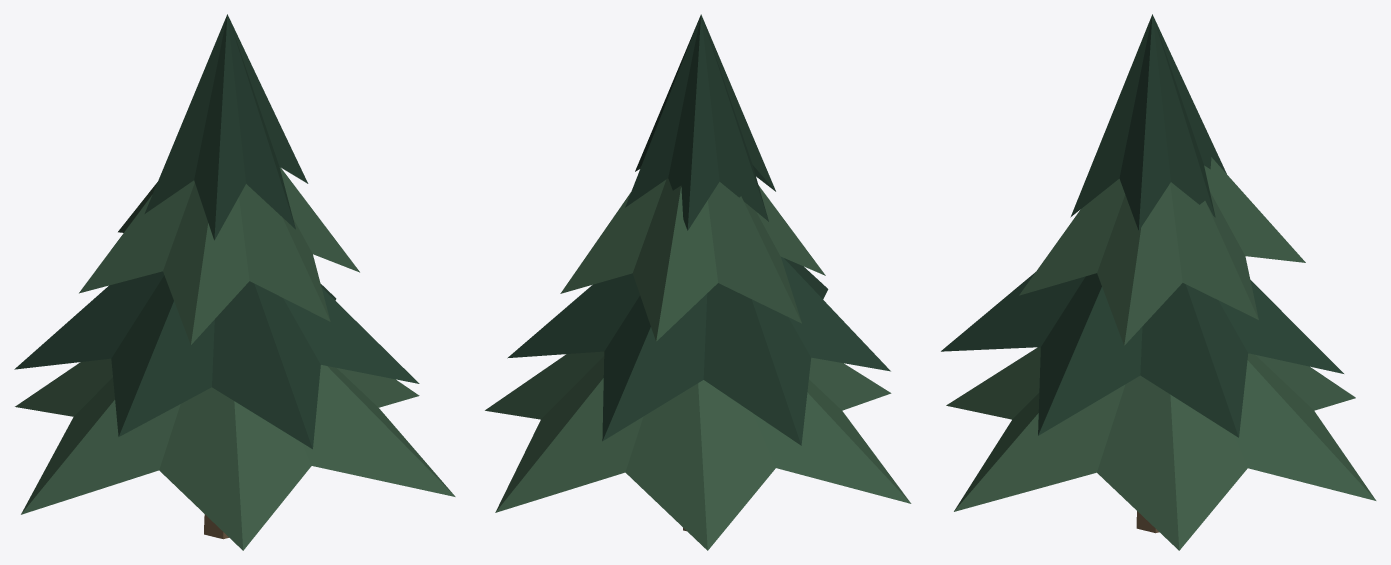
The model's file is tree_pine_02_lod1.glb.
3 renders of one model, left to right at view 1: azimuth 30°, elevation 25°; view 2: azimuth 150°, elevation 25°; view 3: azimuth 270°, elevation 25°, orthographic.
Parts seen in each view (by area): view 1: tree_pine_02_lod1; view 2: tree_pine_02_lod1; view 3: tree_pine_02_lod1.
Part boxes in pixels (<box>): tree_pine_02_lod1: <box>14,14,455,550</box>; tree_pine_02_lod1: <box>485,14,911,550</box>; tree_pine_02_lod1: <box>941,14,1376,550</box>.
Size of what is drawn, in the model's own units: 5.65 by 6.7 by 5.18.
1 material, 1 textured.
